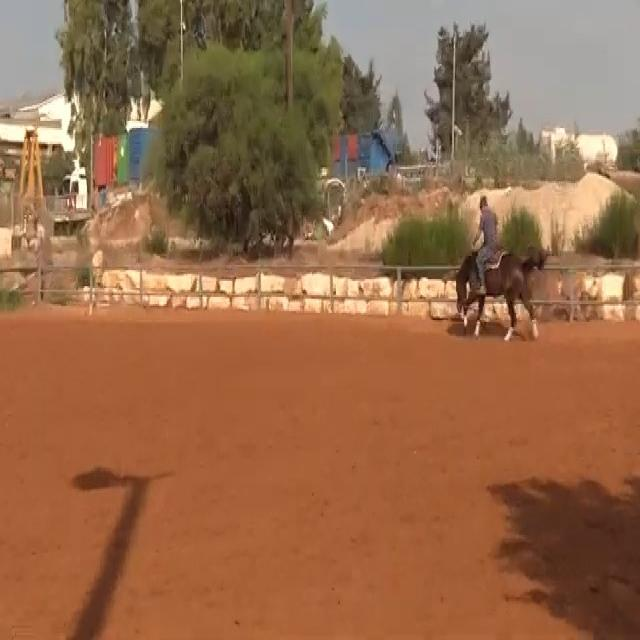horse: (453, 240, 551, 341)
